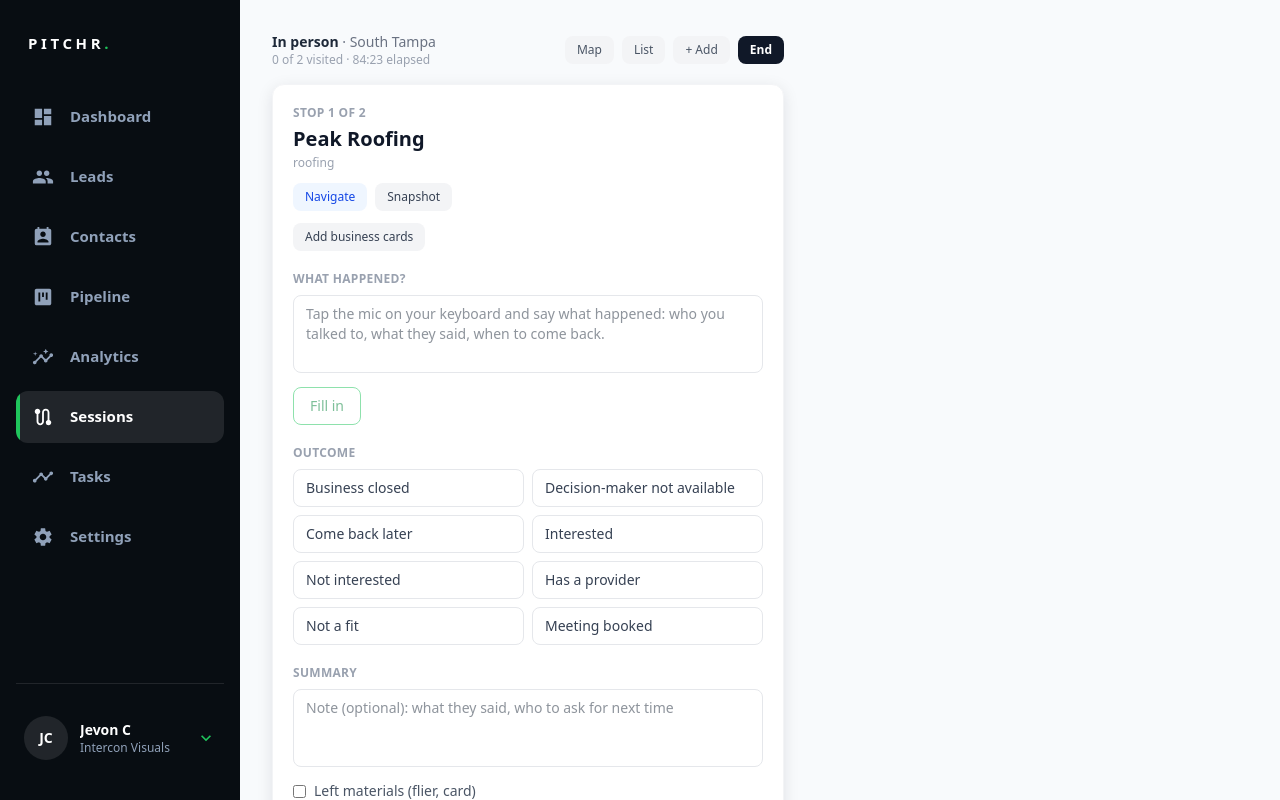
it: RunSessionPage (visits) › re-optimizes the stops left from my location, from the map
Click the button "Map" at (589, 50), box [565,36,614,64]
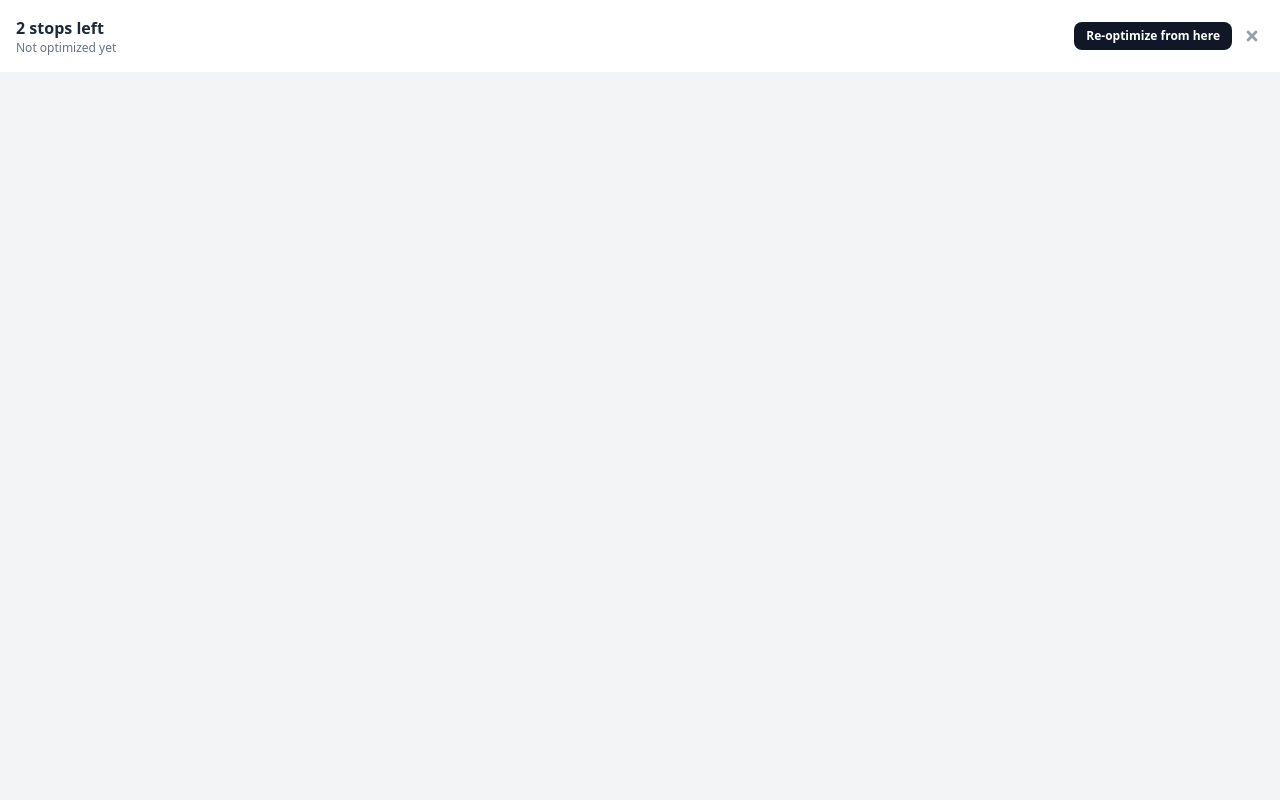
Expected: the dialog named "Map of stops" shows "2 stops left"
Click the button "Re-optimize from here" at (1153, 36), box [1074,22,1232,50]
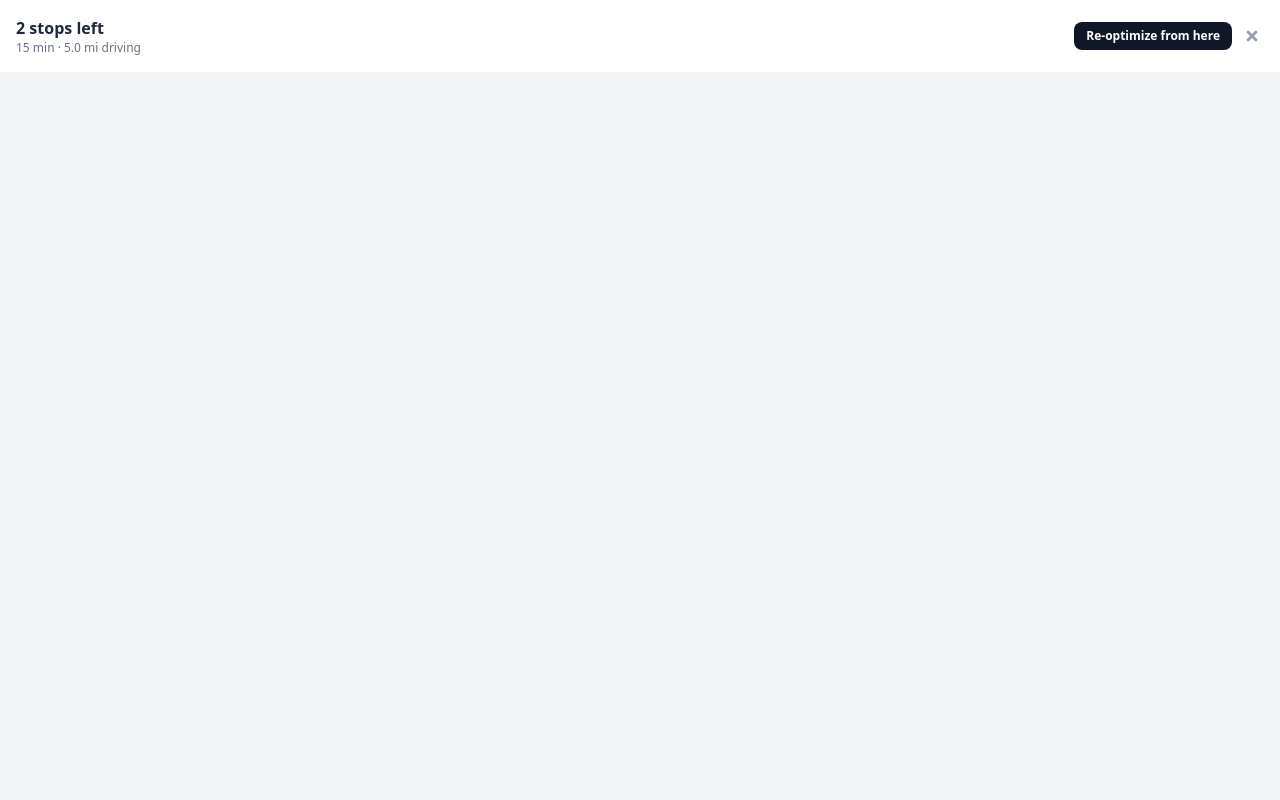
Expected: the text "15 min · 5.0 mi driving" is shown, [16,40,141,56]
